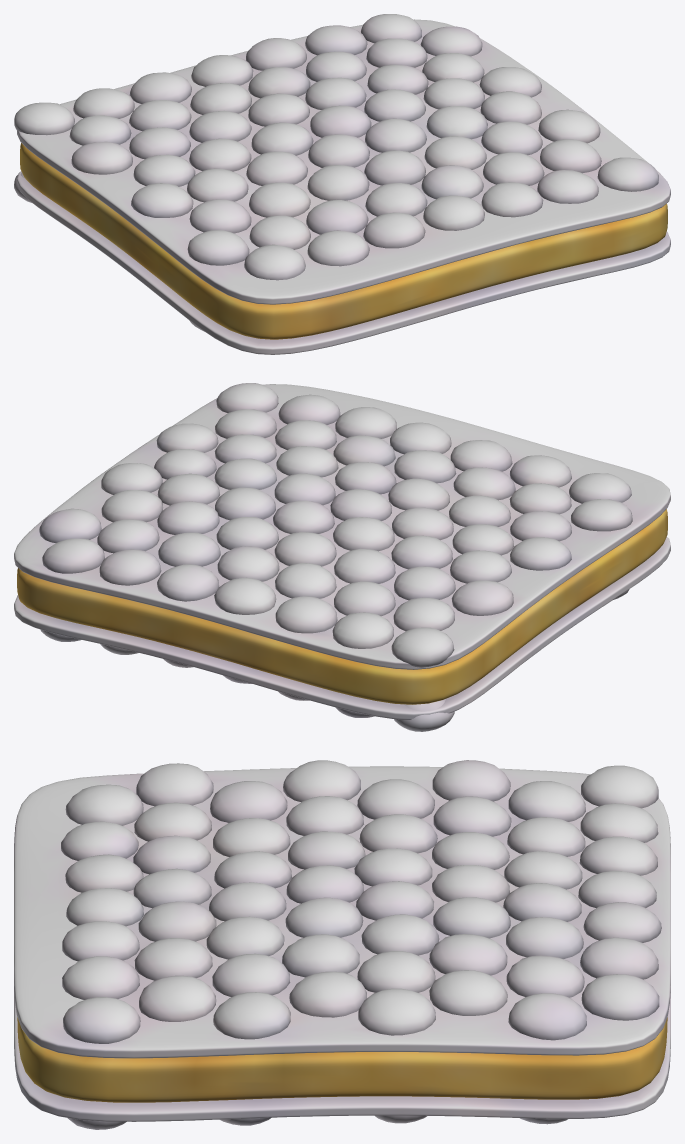
File: bilayer-patch.glb
3 renders of one model, top to bottom at view 1: azimuth 30°, elevation 25°; view 2: azimuth 150°, elevation 25°; view 3: azimuth 270°, elevation 25°, orthographic. The views are drawn at different scales.
Parts seen in each view (by area): view 1: bilayer-patch-heads, bilayer-patch-tails; view 2: bilayer-patch-heads, bilayer-patch-tails; view 3: bilayer-patch-heads, bilayer-patch-tails.
Boxes of the visible parts, bbox=[...] form: bilayer-patch-heads: bbox=[14, 14, 670, 354]; bilayer-patch-tails: bbox=[20, 143, 667, 339]; bilayer-patch-heads: bbox=[14, 383, 670, 731]; bilayer-patch-tails: bbox=[17, 509, 667, 704]; bilayer-patch-heads: bbox=[14, 760, 670, 1129]; bilayer-patch-tails: bbox=[17, 1017, 667, 1102].
Size of what is drawn, in the model's own units: 6 by 1.36 by 6.
